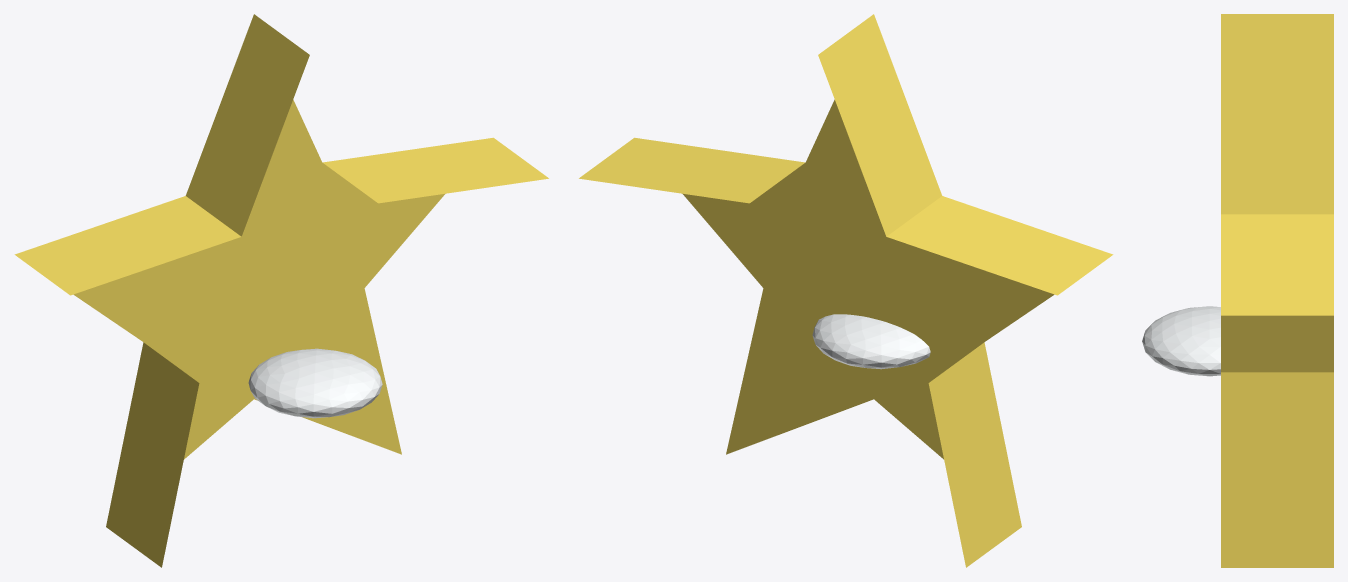
The model's file is energy_star.glb.
The picture shows the model from 3 angles, left to right: view 1: azimuth 30°, elevation 25°; view 2: azimuth 150°, elevation 25°; view 3: azimuth 270°, elevation 25°; orthographic projection.
Parts seen in each view (by area): view 1: energy_star, white; view 2: energy_star, white; view 3: energy_star, white.
Part boxes in pixels (box(x1,y1,x2,y2)): energy_star: box(14, 14, 548, 567); white: box(248, 348, 382, 418); energy_star: box(579, 14, 1113, 567); white: box(812, 314, 930, 369); energy_star: box(1221, 14, 1333, 567); white: box(1142, 306, 1220, 376).
Bounding box in the file's own units: 0.9891 × 0.9407 × 0.34.
